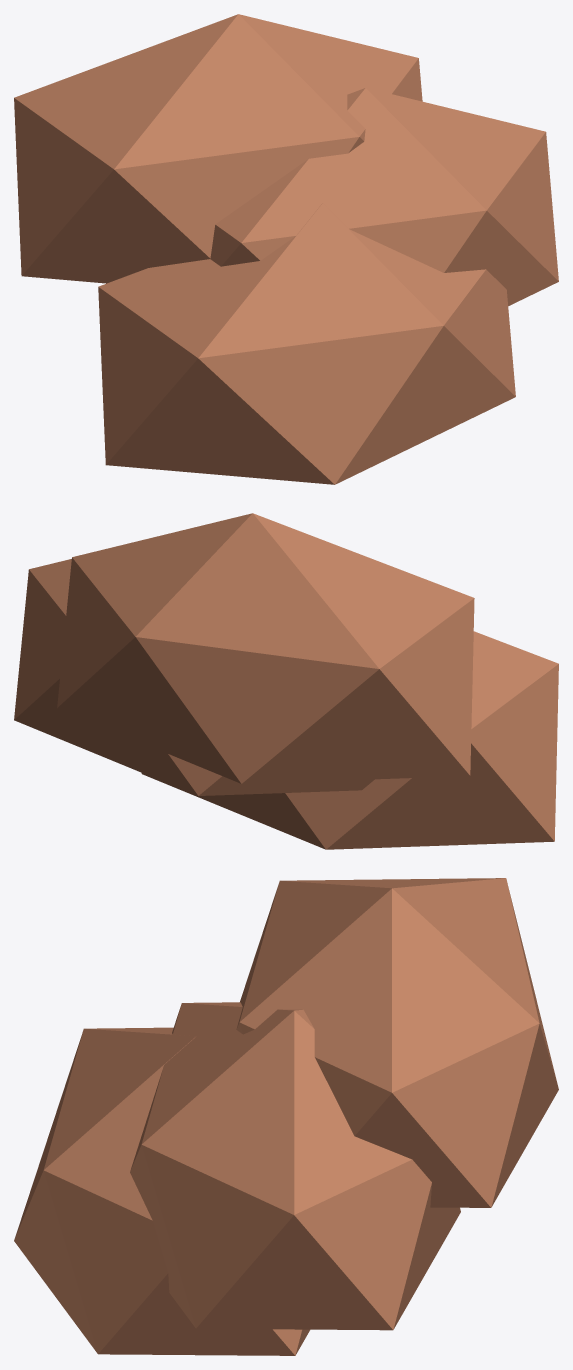
The model's file is item_075_iron_ore_m.glb.
3 views of the same model, one above another, from view 1: azimuth 30°, elevation 25°; view 2: azimuth 150°, elevation 25°; view 3: azimuth 270°, elevation 25° (orthographic). The views are drawn at different scales.
Visible parts, largest first — view 1: item_075_iron_ore_m; view 2: item_075_iron_ore_m; view 3: item_075_iron_ore_m.
Part boxes in pixels (box(x1,y1,x2,y2)): item_075_iron_ore_m: box(14, 14, 558, 484); item_075_iron_ore_m: box(14, 513, 558, 849); item_075_iron_ore_m: box(14, 878, 558, 1355).
Bounding box in the file's own units: 0.3967 × 0.3023 × 0.3339.
